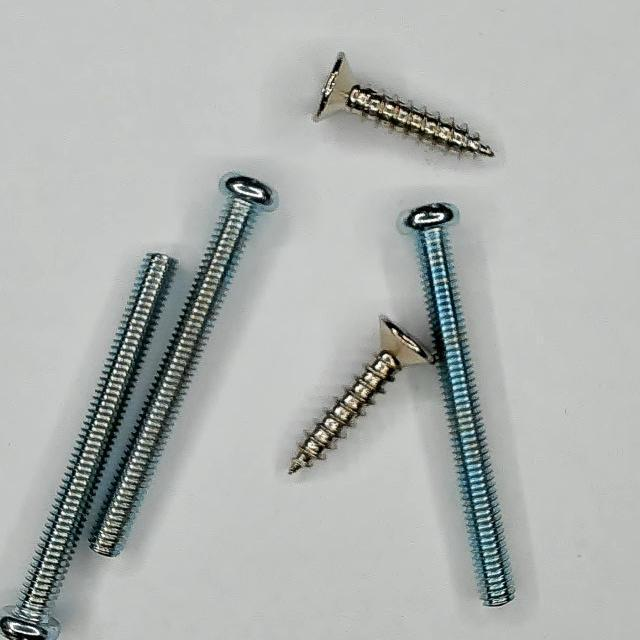Screw: (90, 175, 273, 558), (0, 254, 176, 640), (405, 203, 516, 608), (289, 316, 435, 474), (316, 54, 494, 156)
